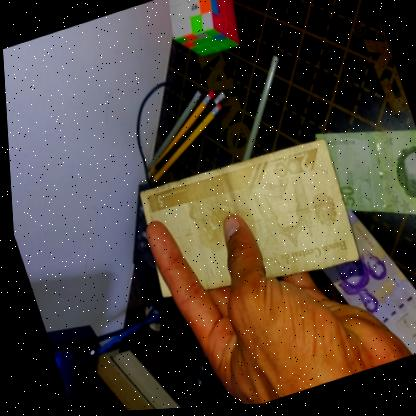fifty-front-vef: (309, 107, 416, 252)
five-back-vef: (122, 133, 363, 324)
two_hundred-front-vef: (301, 193, 416, 378)
